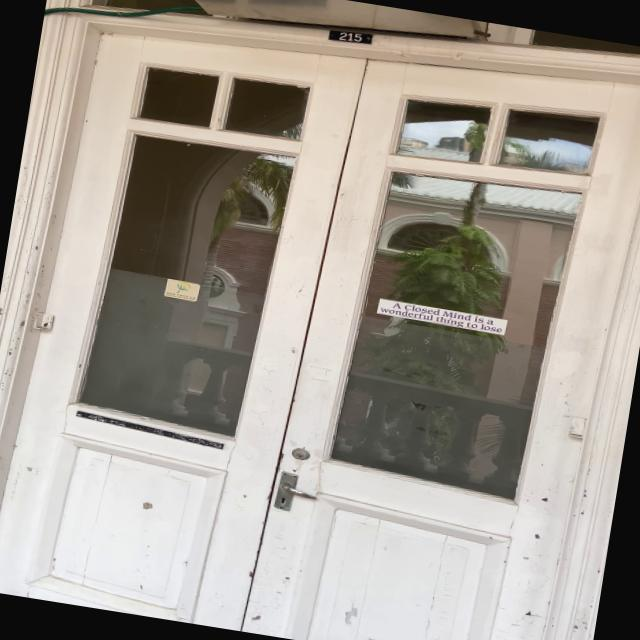room215: (327, 25, 374, 47)
